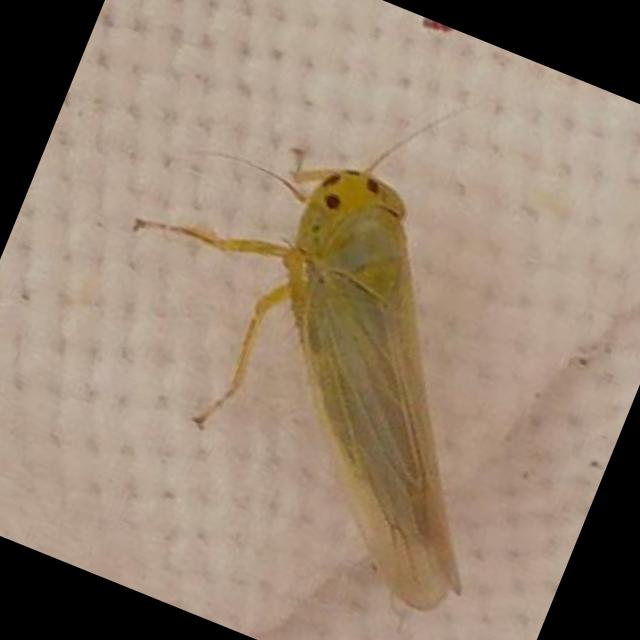green-leafhopper: (131, 99, 474, 611)
